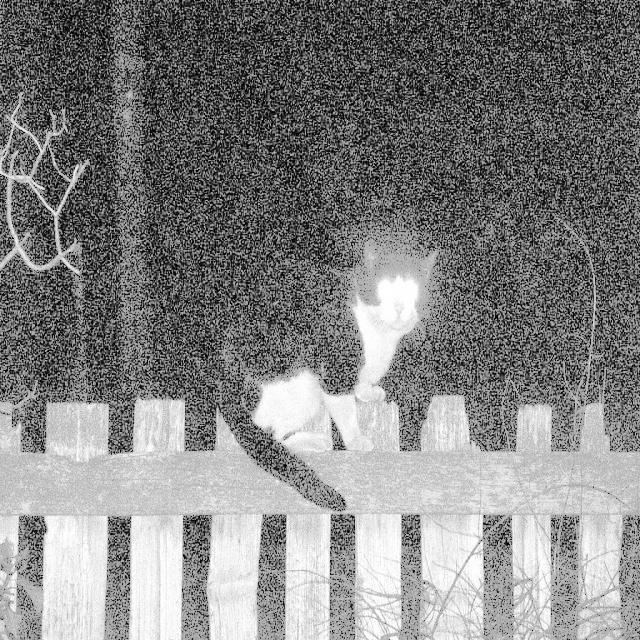Cat: (174, 228, 460, 504)
